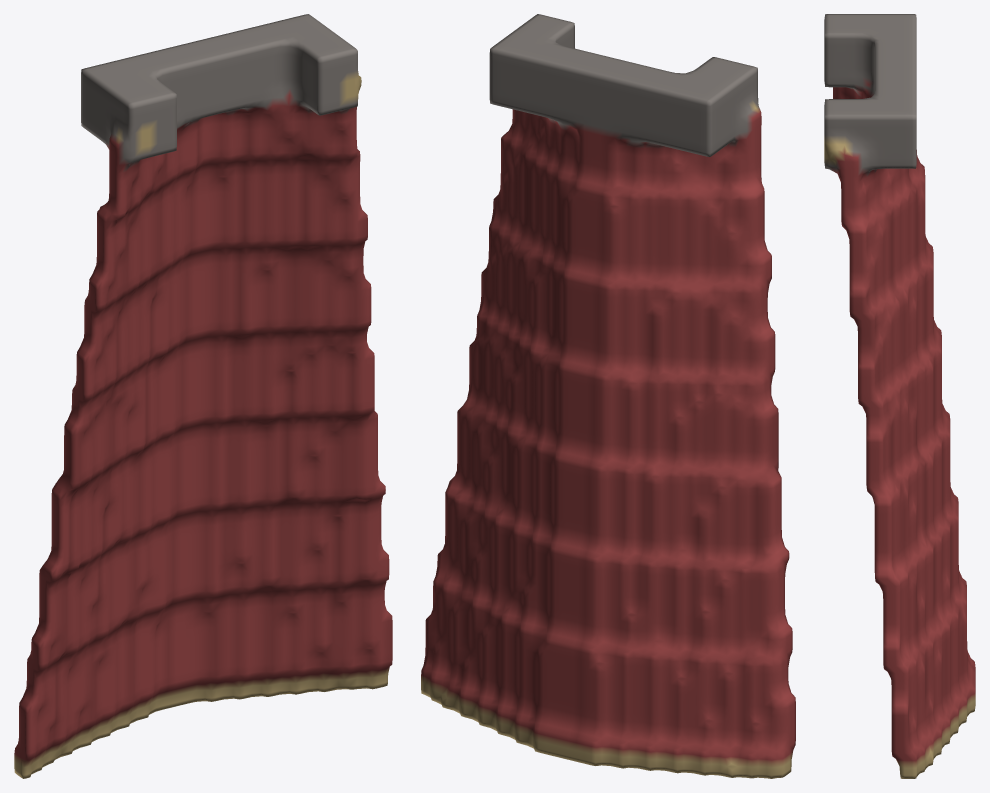
The model's file is plate_rare_cloak.glb.
3 views of the same model, side by side, from view 1: azimuth 30°, elevation 25°; view 2: azimuth 150°, elevation 25°; view 3: azimuth 270°, elevation 25° (orthographic). The views are drawn at different scales.
Parts seen in each view (by area): view 1: plate_rare_cloak; view 2: plate_rare_cloak; view 3: plate_rare_cloak.
Boxes of the visible parts, x1,y1,x2,y2 form: plate_rare_cloak: (14,14,392,778); plate_rare_cloak: (421,14,795,778); plate_rare_cloak: (824,14,975,778).
Bounding box in the file's own units: 0.564 × 0.996 × 0.216.
